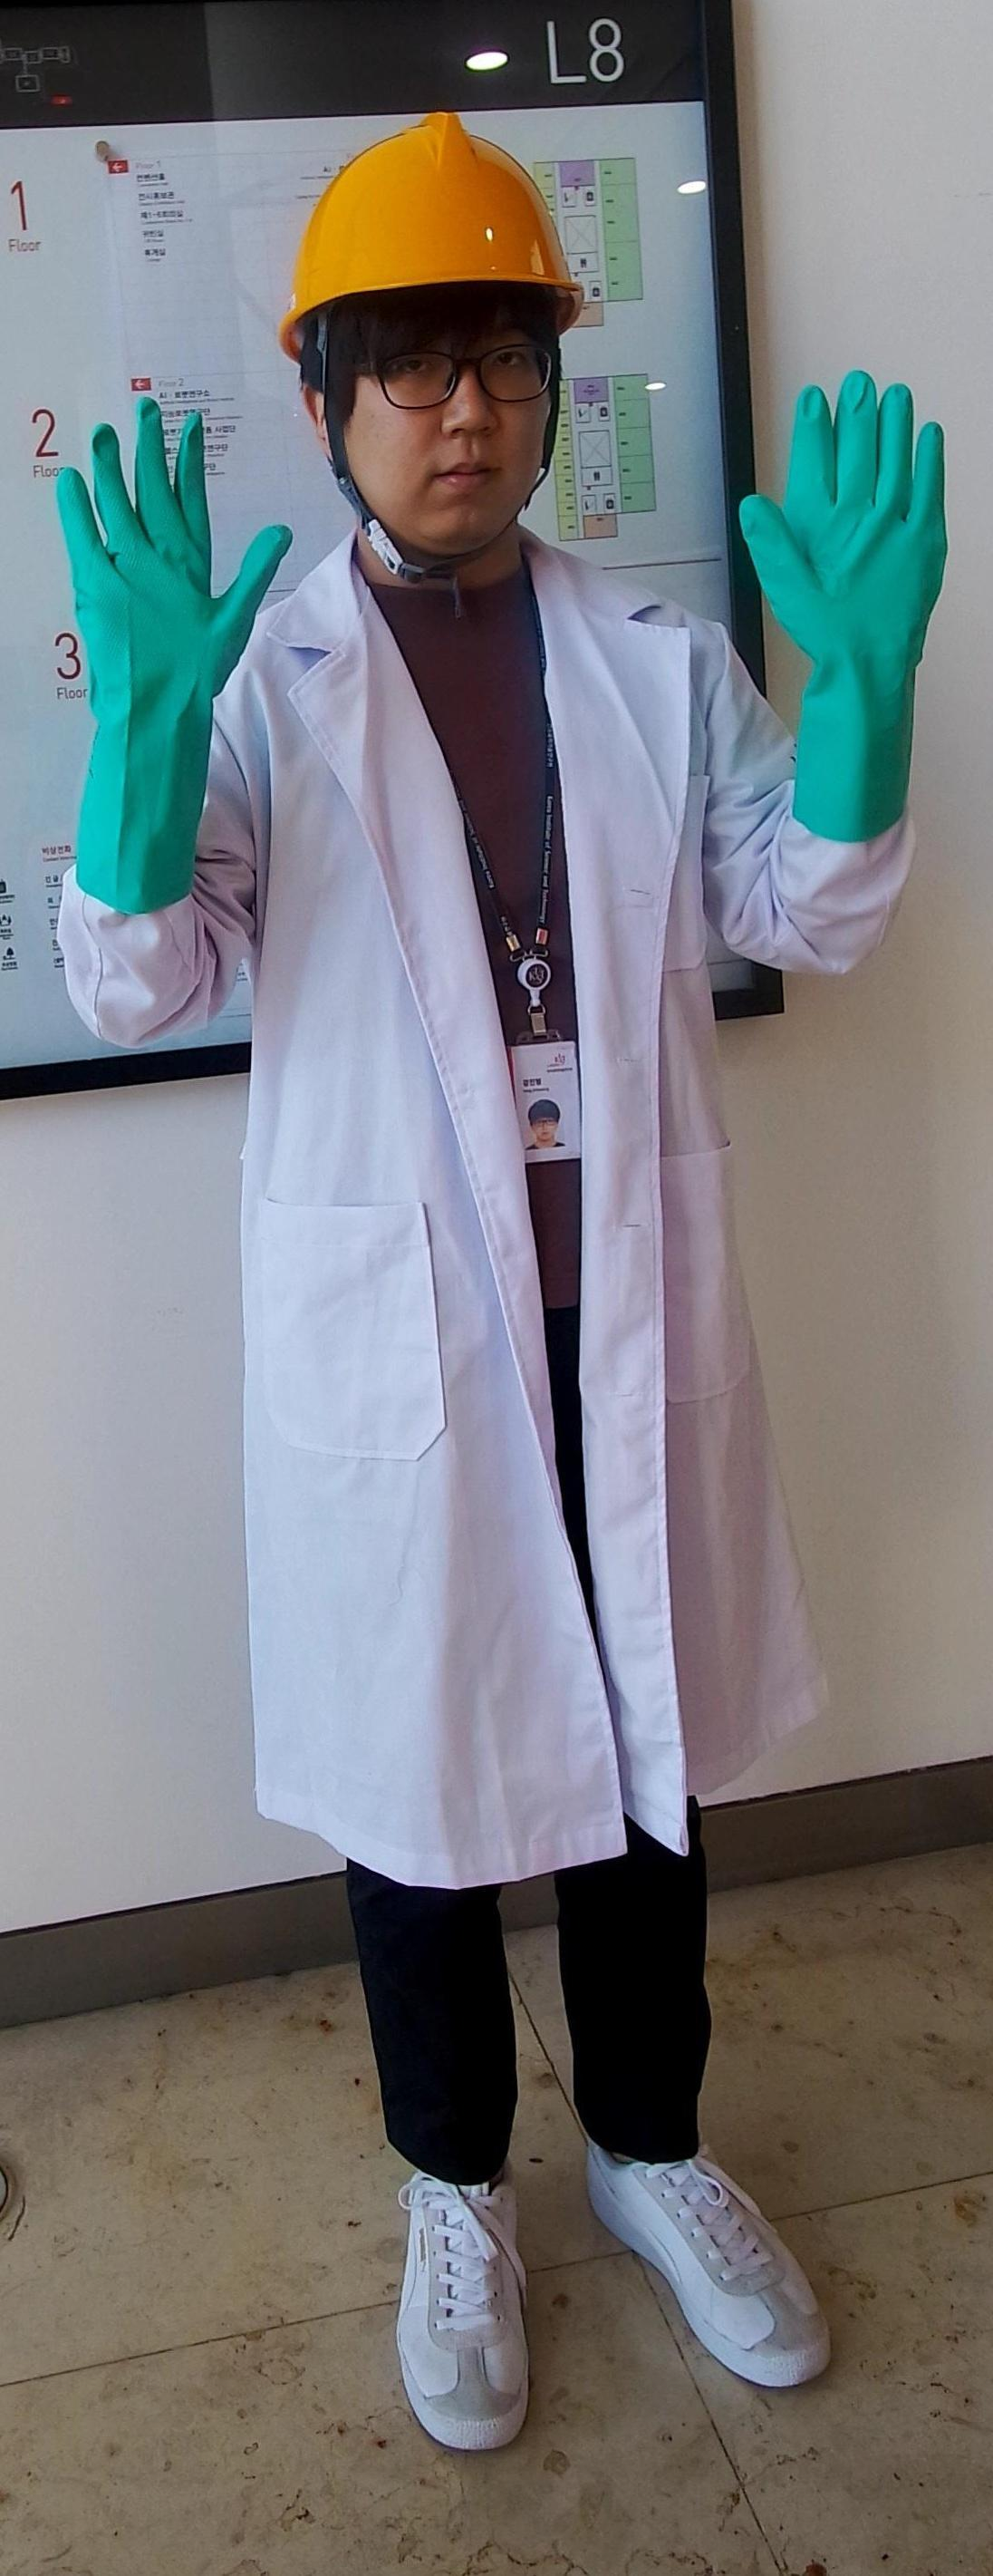lab_coat: (264, 613, 757, 1838)
